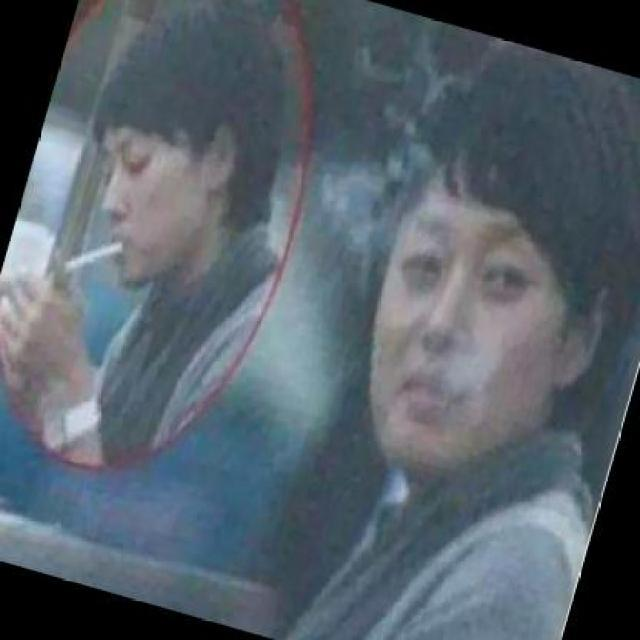smoke: (58, 224, 128, 292)
